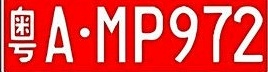A: (46, 6, 73, 62)
